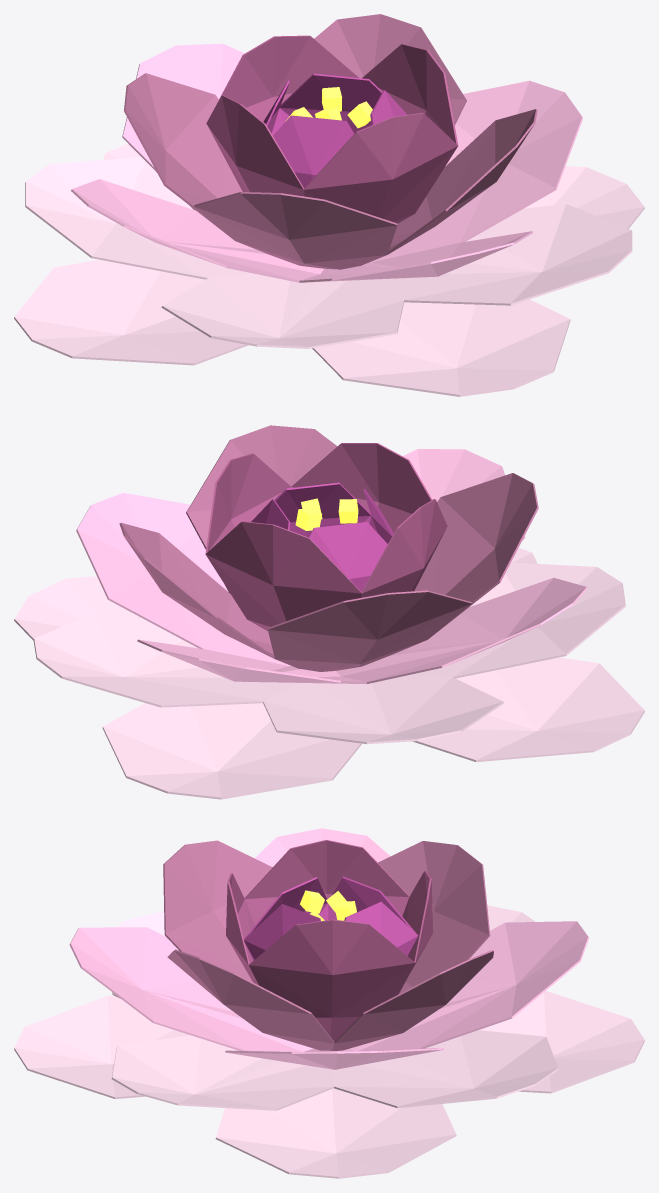
The model's file is LotusNenuphar.glb.
The picture shows the model from 3 angles, top to bottom: view 1: azimuth 30°, elevation 25°; view 2: azimuth 150°, elevation 25°; view 3: azimuth 270°, elevation 25°; orthographic projection. The views are drawn at different scales.
Parts seen in each view (by area): view 1: LotusNenuphar; view 2: LotusNenuphar; view 3: LotusNenuphar.
Part boxes in pixels (<box>): LotusNenuphar: <box>14,14,644,396</box>; LotusNenuphar: <box>14,425,644,799</box>; LotusNenuphar: <box>14,828,644,1178</box>.
Size of the model in its own units: 3.43 by 1.12 by 3.43.
